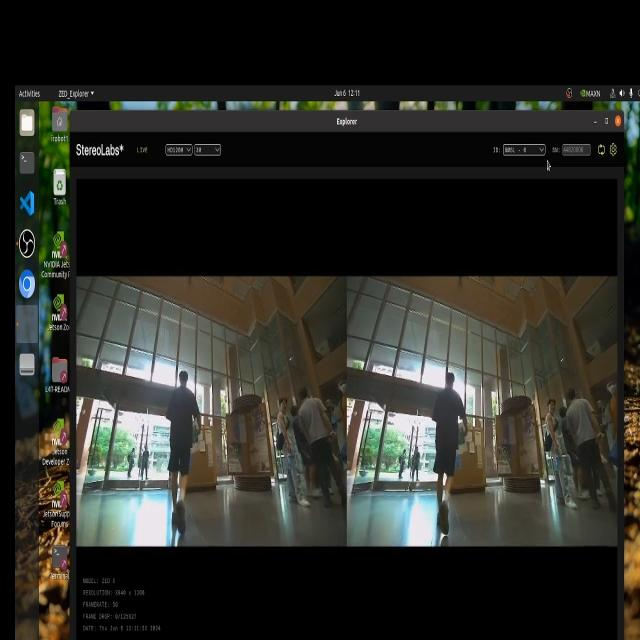green: (452, 423, 468, 452), (190, 424, 201, 450)
